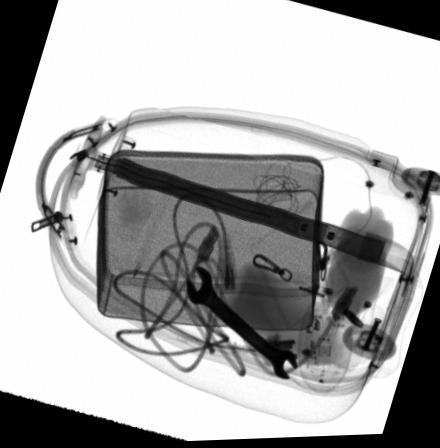Wrench: (186, 267, 298, 382)
